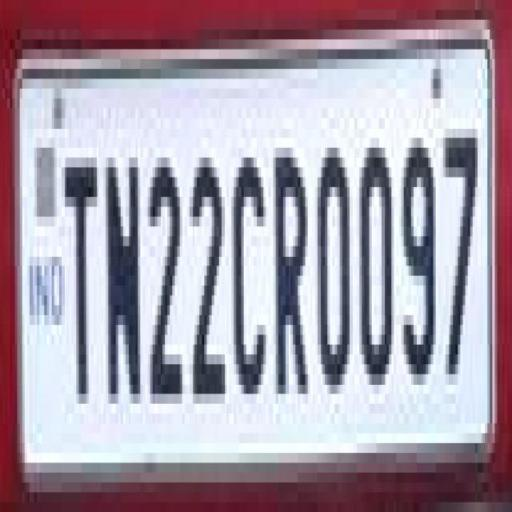number plate: (28, 50, 502, 492)
